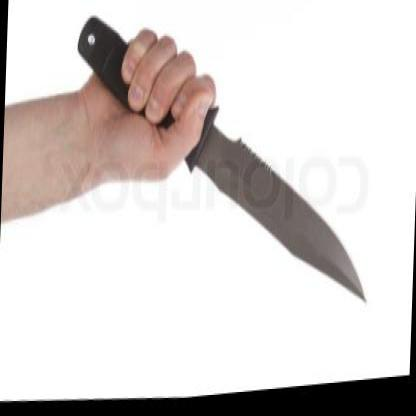knife: (120, 29, 384, 343)
